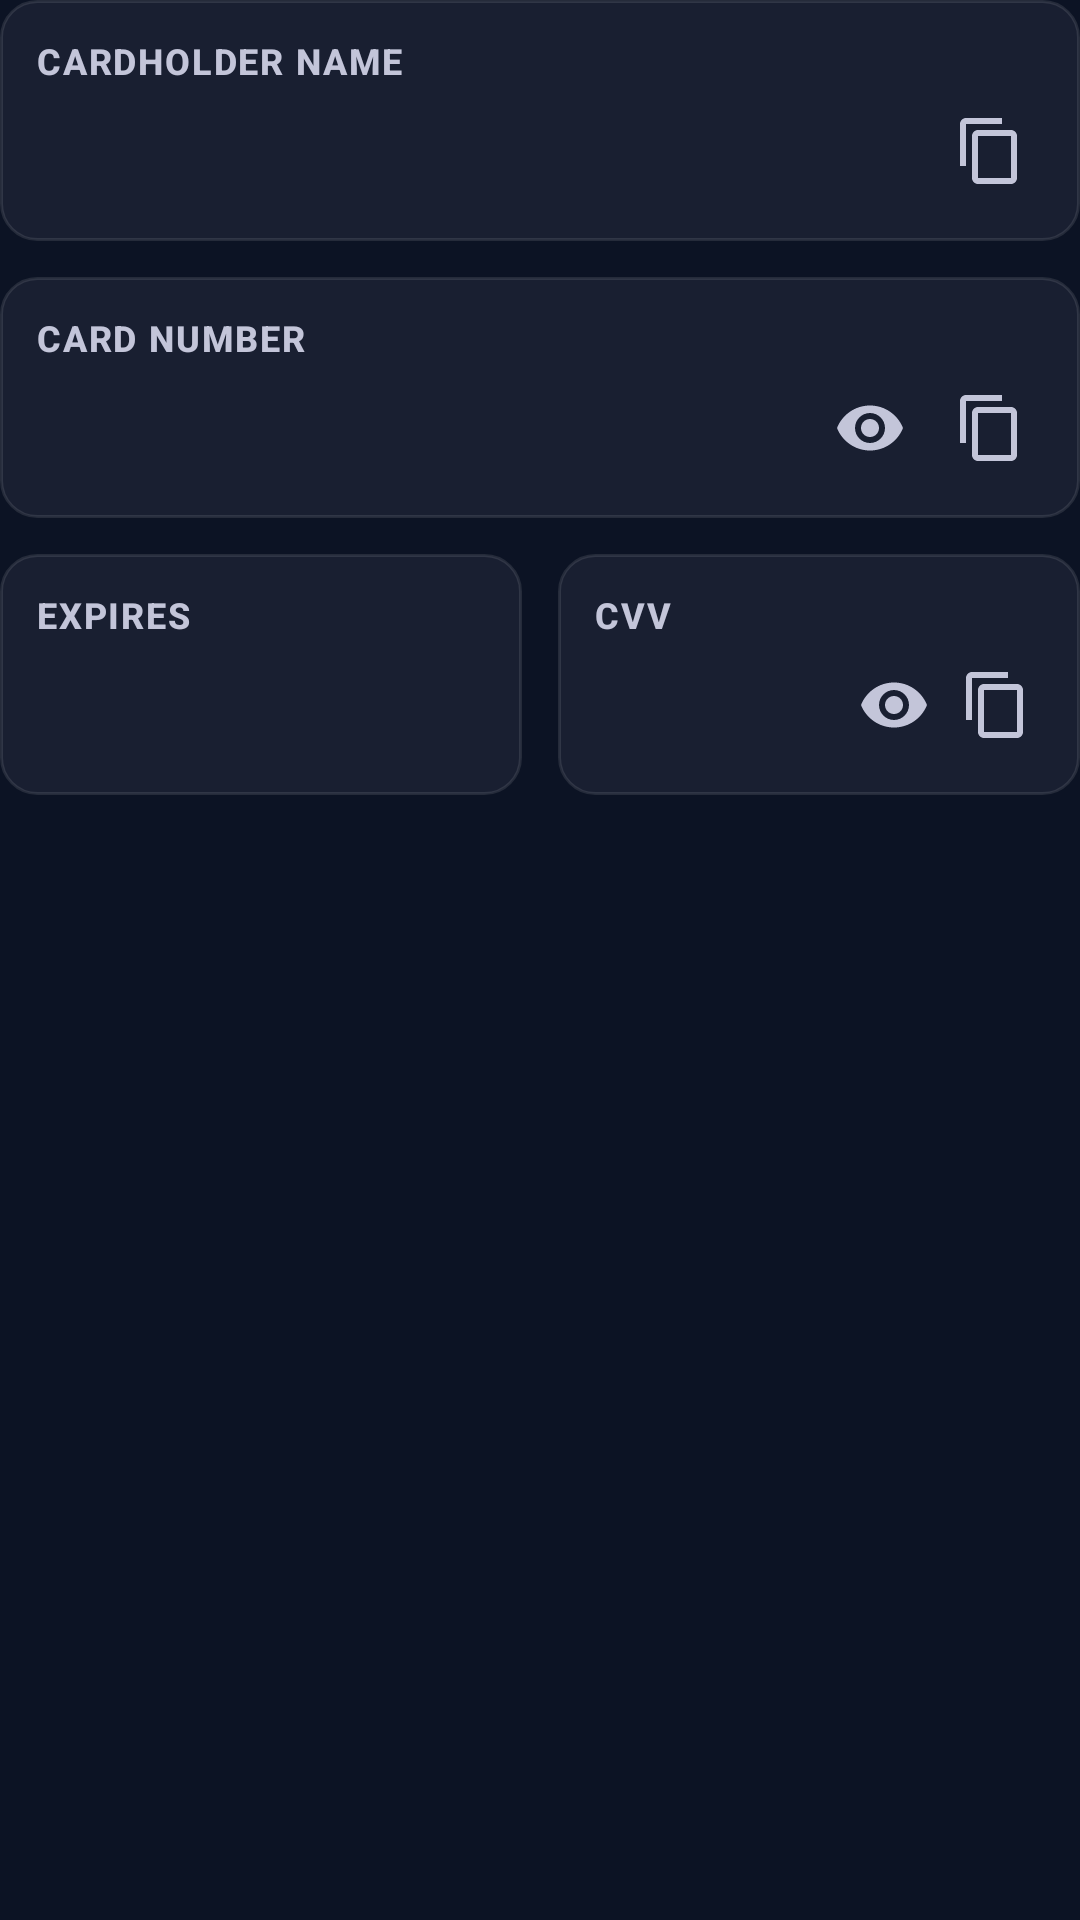

Screen size 1080 × 1920. Icon name, then its box in pixels as [left=x1, top=y1, right=x2, bottom=y2]:
Copy: [left=960, top=118, right=1017, bottom=184], [left=960, top=395, right=1017, bottom=461], [left=966, top=672, right=1023, bottom=738]
